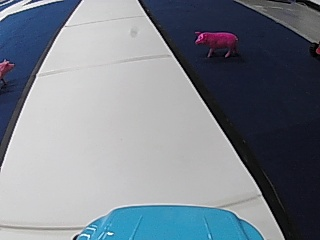pig: (191, 28, 239, 57), (0, 58, 15, 86)
